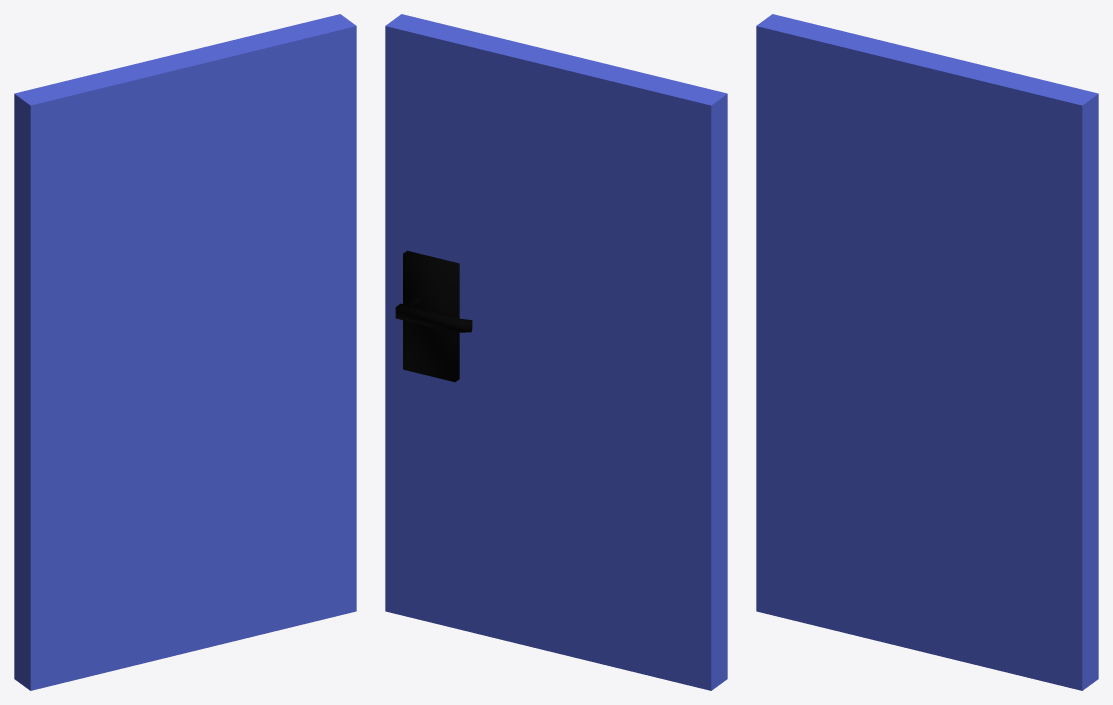
Rendered from model_door_01.fbx.
The picture shows the model from 3 angles, left to right: view 1: azimuth 30°, elevation 25°; view 2: azimuth 150°, elevation 25°; view 3: azimuth 330°, elevation 25°; orthographic projection.
Parts seen in each view (by area): view 1: Plane.034; view 2: Plane.034; view 3: Plane.034.
Part boxes in pixels (<box>): Plane.034: <box>14,14,356,690</box>; Plane.034: <box>385,14,727,690</box>; Plane.034: <box>756,14,1098,690</box>.
Size of the model in its own units: 124 by 213 by 24.59.
